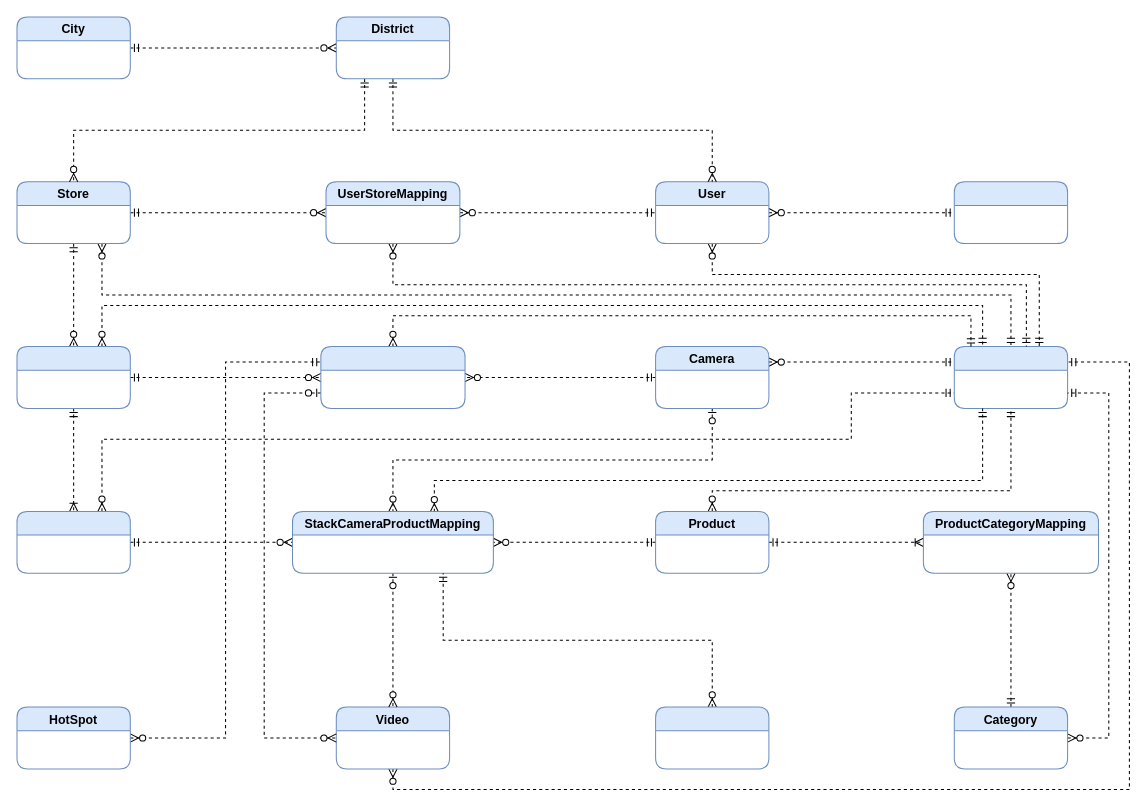
Image size: 1146x806. Some labels were removed from this diagram. The shapes that lost their labels are listed below. From the top down, each one's centre as x and y in pixels, then its label:
[1010,212]: Role
[73,377]: Shelf
[392,377]: ShelfCameraMapping
[1010,377]: Status
[73,541]: Stack
[712,737]: Enotion
